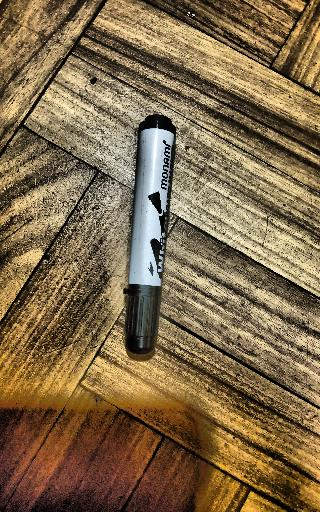marcador negro: (123, 115, 176, 360)
